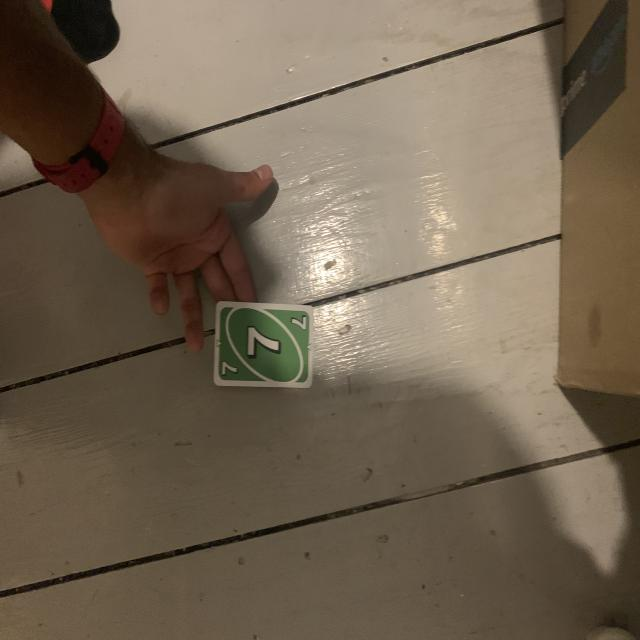lgreen-7: (287, 312, 310, 334)
